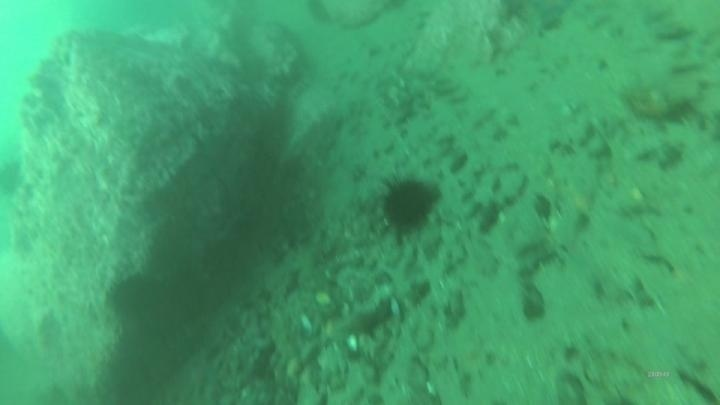echinus: (377, 174, 442, 236), (107, 270, 173, 324)
